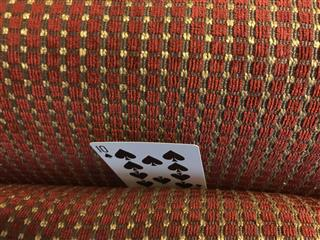TenOfSpades: (88, 140, 207, 188)
